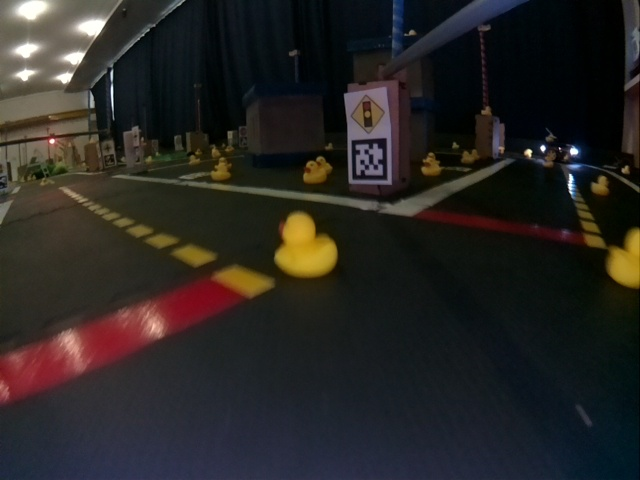Duckie: (274, 213, 338, 277), (607, 227, 638, 290), (303, 161, 324, 184), (422, 158, 442, 174), (211, 163, 230, 179), (315, 156, 328, 175), (463, 151, 474, 162), (482, 105, 490, 115), (189, 156, 199, 163)
QR code: (350, 138, 389, 182)
Signal sign: (350, 97, 386, 135)
